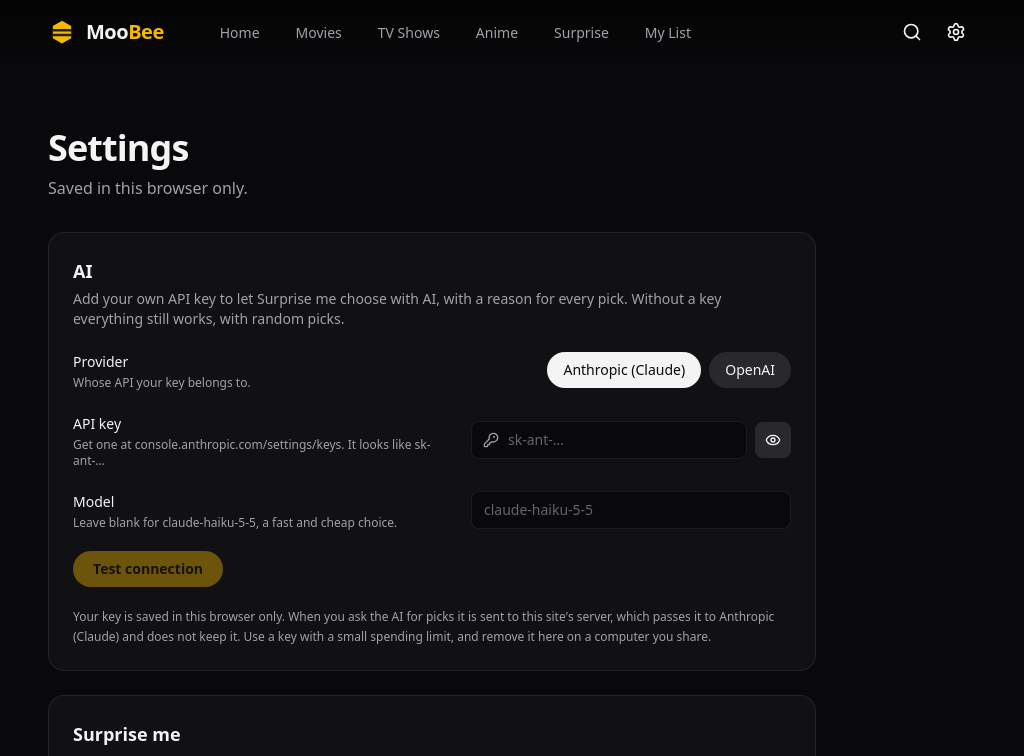
Scenario: Settings page › AI › switches provider and shows that provider’s default model
Click the button "OpenAI" at (750, 370), box [709,352,791,388]
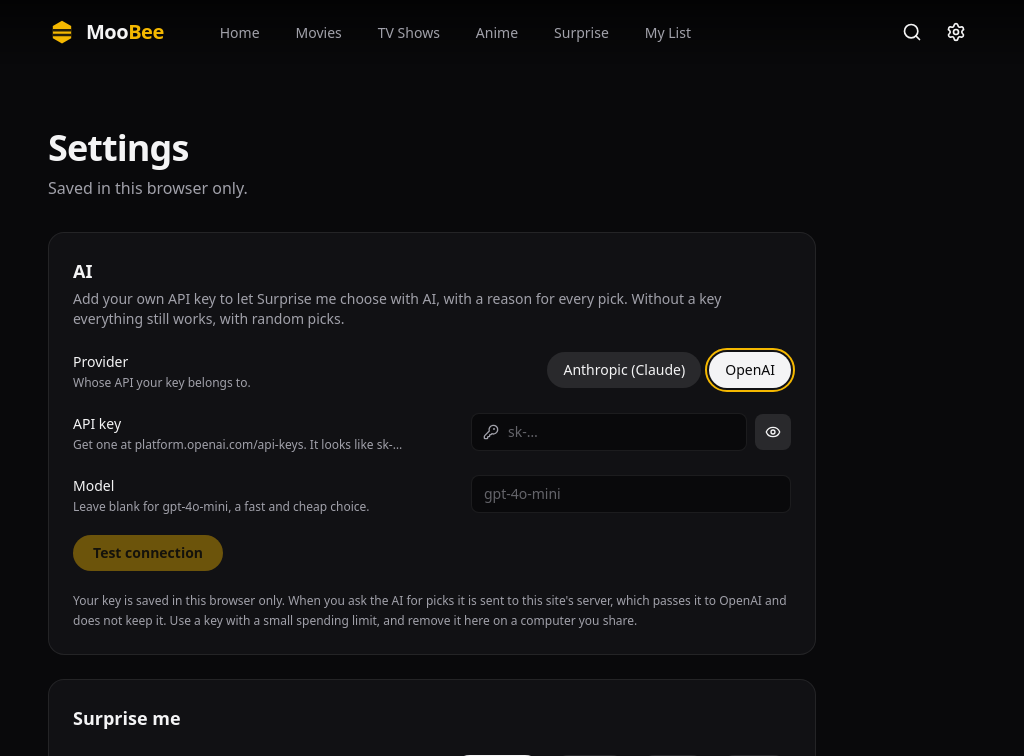
Result: the field labelled "Model" has attribute placeholder="gpt-4o-mini" at [471,475,791,513]
Result: the button "OpenAI" is pressed at [709,352,791,388]
